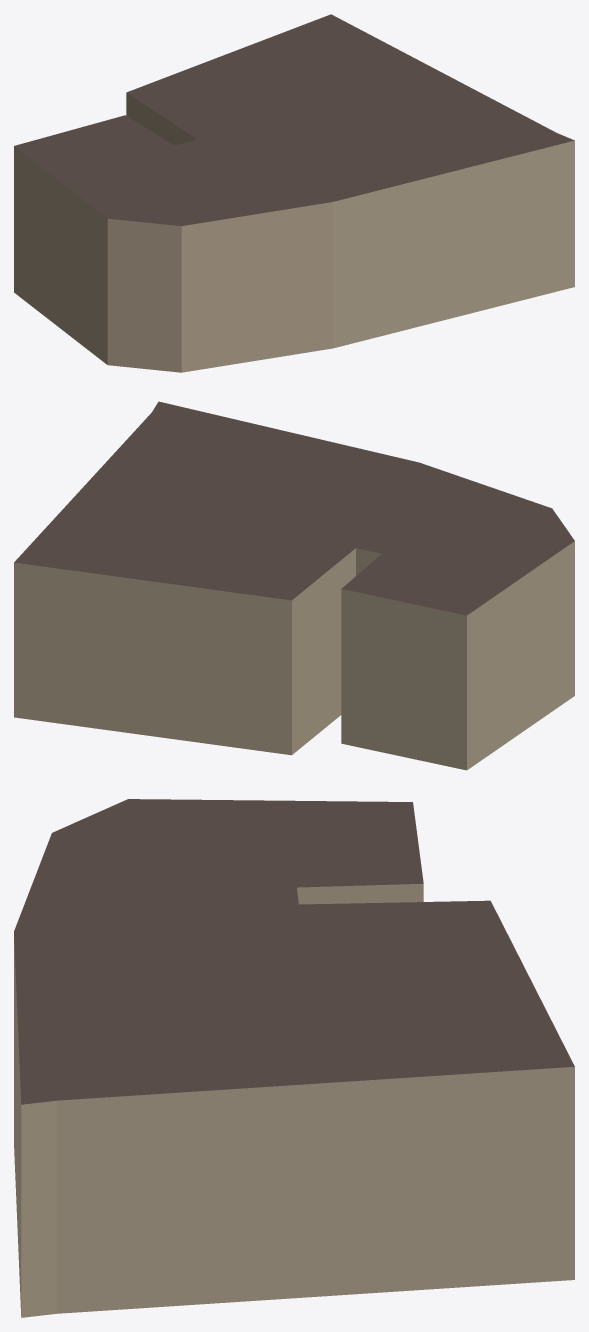
3 views of the same model, one above another, from view 1: azimuth 30°, elevation 25°; view 2: azimuth 150°, elevation 25°; view 3: azimuth 270°, elevation 25° (orthographic). The views are drawn at different scales.
Visible parts, largest first — view 1: HP-w1515071105; view 2: HP-w1515071105; view 3: HP-w1515071105.
Part boxes in pixels (left/top/right/bottom): HP-w1515071105: left=14, top=14, right=574, bottom=372; HP-w1515071105: left=14, top=401, right=574, bottom=770; HP-w1515071105: left=14, top=799, right=574, bottom=1317.
Size of the model in its own units: 27.68 by 9 by 21.47.
